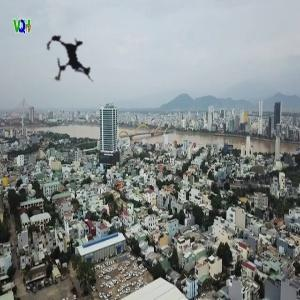drone: (24, 14, 116, 106)
